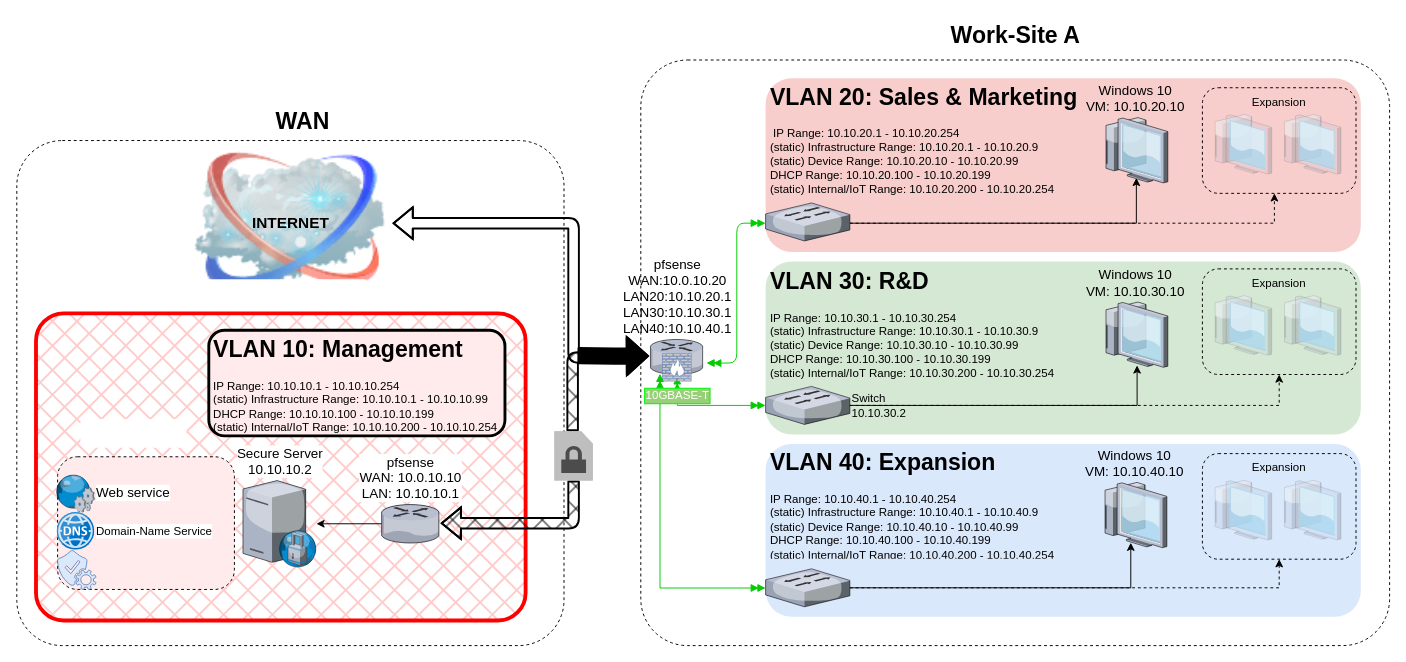
Some shapes in this 1406 by 662 pixel diagram are drawn without their labels. Each missing label, with the centre of its shape:
"Active Domain" belongs at point (76, 569).
"Central Server Site" belongs at point (268, 293).
"Encrypted VPN Tunnel" belongs at point (573, 455).
"Secure Server: Services" belongs at point (133, 432).
"Switch 10.10.20.2" belongs at point (807, 221).
"Switch 10.10.40.2" belongs at point (807, 587).
